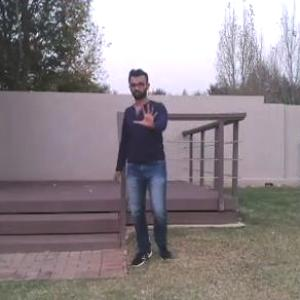follow_hand: (132, 99, 162, 132)
